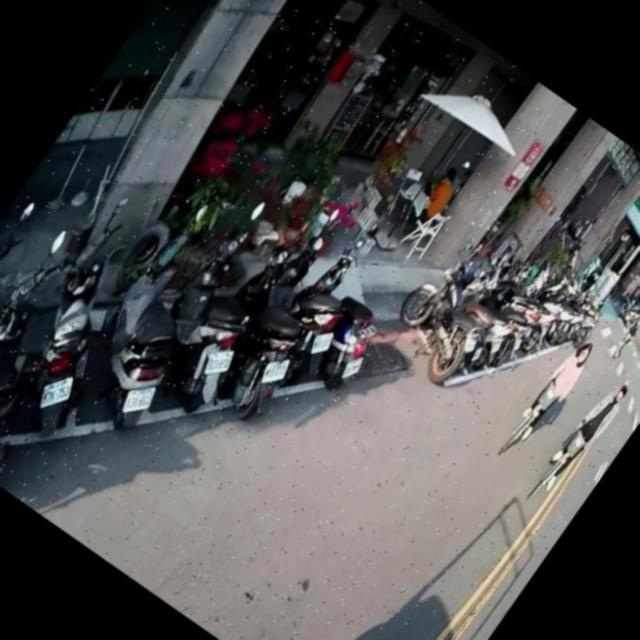person: (534, 370, 636, 498), (505, 329, 602, 449), (393, 151, 472, 244), (611, 314, 640, 357)
